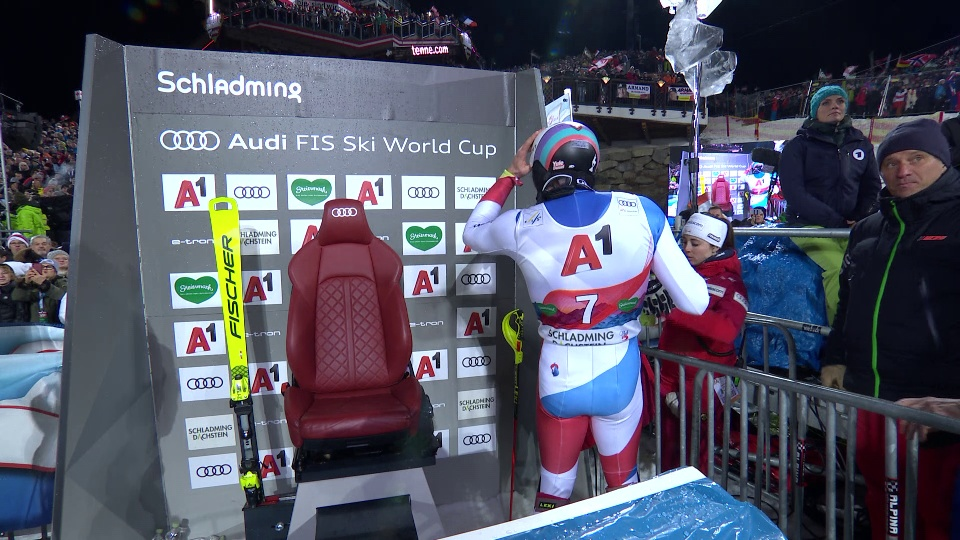a1: (556, 226, 622, 277), (171, 176, 211, 209), (244, 273, 280, 305), (184, 323, 219, 355), (354, 177, 388, 208), (252, 365, 284, 396), (413, 352, 445, 382), (258, 452, 291, 480), (413, 267, 444, 294), (463, 310, 494, 335)
audi: (159, 129, 219, 155), (231, 181, 274, 204), (460, 268, 495, 290), (195, 462, 233, 482), (187, 375, 226, 394), (407, 185, 441, 201), (462, 354, 492, 371), (464, 433, 493, 450), (328, 206, 358, 221)
etron: (170, 234, 214, 250), (410, 319, 442, 332)
longines: (626, 86, 652, 97)
schladming: (151, 67, 303, 104), (458, 392, 498, 420), (188, 419, 228, 447), (459, 178, 499, 206), (550, 332, 617, 345)
steiermark: (172, 275, 221, 307), (289, 175, 334, 207), (404, 224, 445, 252), (613, 297, 637, 318), (534, 303, 558, 324)
